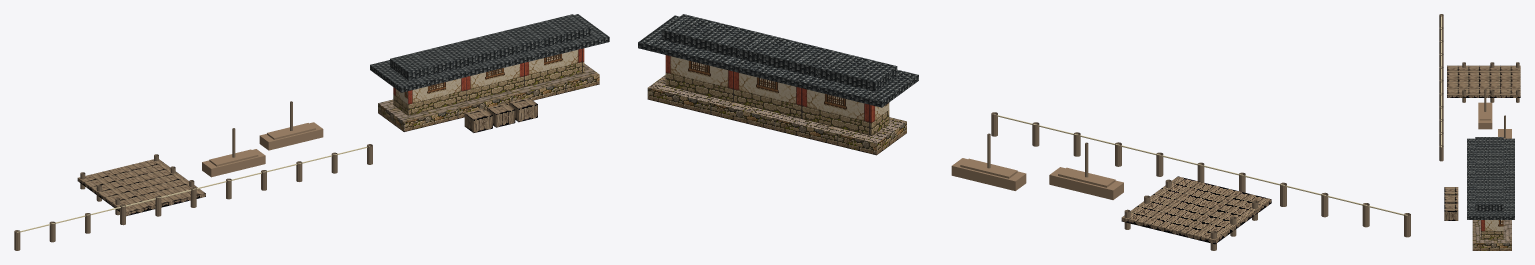
File: st_dock.glb
The picture shows the model from 3 angles, left to right: view 1: azimuth 30°, elevation 25°; view 2: azimuth 150°, elevation 25°; view 3: azimuth 270°, elevation 25°; orthographic projection. The views are drawn at different scales.
Visible parts, largest first — view 1: roof, wood, wall, hull, base, post, btop, rope; view 2: roof, wall, wood, base, hull, post, btop, rope; view 3: roof, wood, post, btop, hull, wall, base, rope.
Part boxes in pixels (x1=…): roof: x1=370, y1=14, x2=609, y2=92; wood: x1=77, y1=97, x2=537, y2=216; wall: x1=393, y1=48, x2=584, y2=115; hull: x1=202, y1=122, x2=323, y2=177; base: x1=378, y1=74, x2=599, y2=131; post: x1=14, y1=101, x2=372, y2=250; btop: x1=378, y1=63, x2=598, y2=121; rope: x1=17, y1=146, x2=369, y2=232; roof: x1=638, y1=14, x2=918, y2=107; wall: x1=665, y1=55, x2=889, y2=135; wood: x1=1121, y1=176, x2=1271, y2=244; base: x1=647, y1=88, x2=906, y2=155; hull: x1=951, y1=158, x2=1123, y2=199; post: x1=987, y1=112, x2=1410, y2=250; btop: x1=648, y1=75, x2=906, y2=143; rope: x1=994, y1=114, x2=1407, y2=215; roof: x1=1467, y1=137, x2=1514, y2=219; wood: x1=1444, y1=65, x2=1520, y2=220; post: x1=1439, y1=14, x2=1519, y2=161; btop: x1=1472, y1=220, x2=1511, y2=243; hull: x1=1478, y1=102, x2=1511, y2=138; wall: x1=1481, y1=220, x2=1503, y2=239; base: x1=1472, y1=243, x2=1511, y2=250; rope: x1=1441, y1=15, x2=1441, y2=147.
Size of the model in its own units: 382 by 38 by 57.52.
8 materials, 5 textured.
